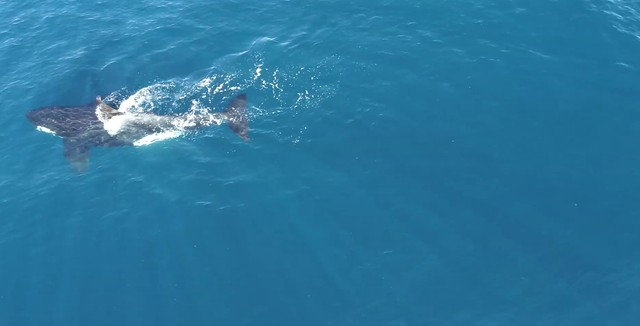whale: (23, 75, 255, 178)
